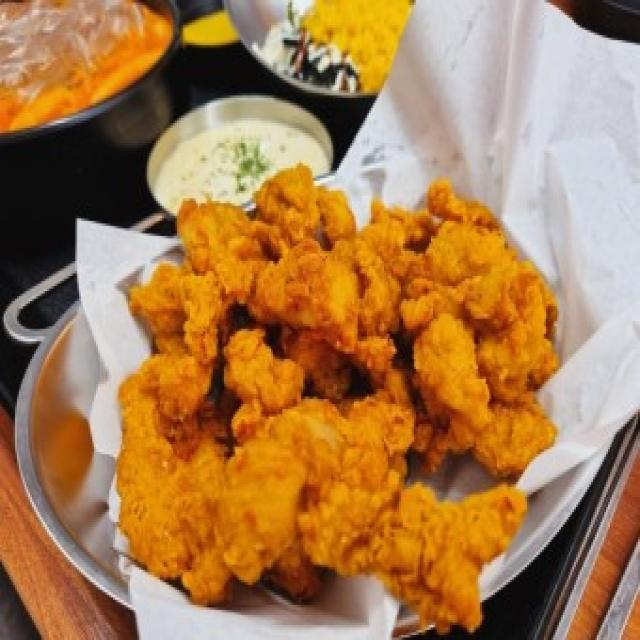Frango: (119, 156, 564, 632)
